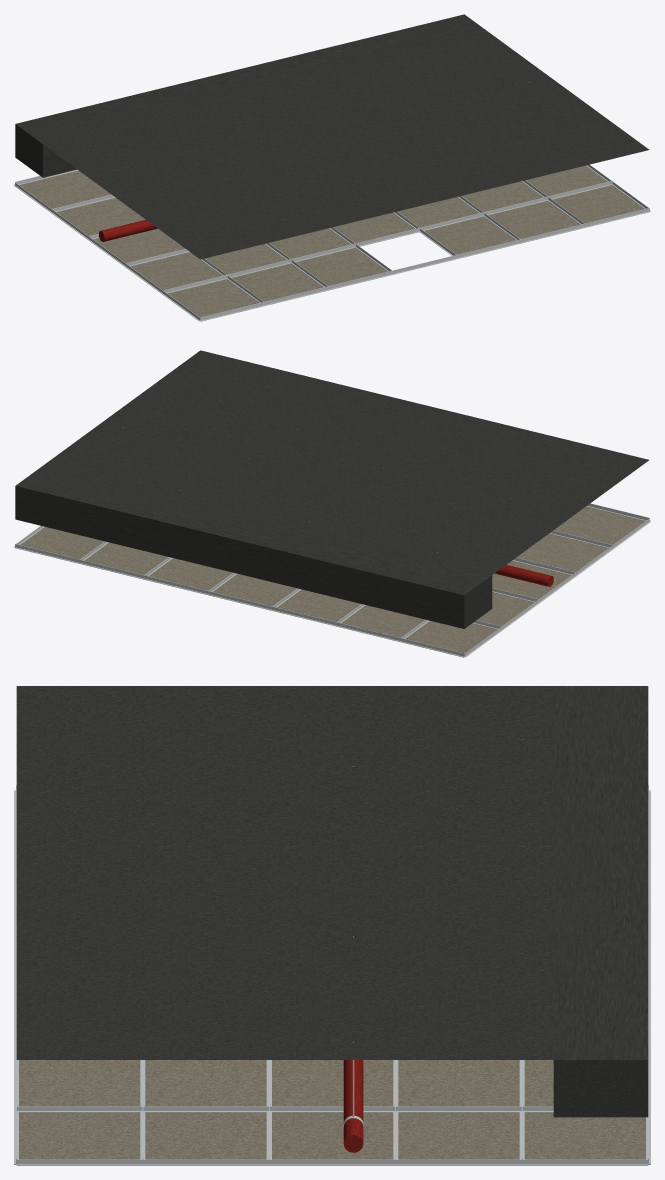
Rendered from plenum_empty.glb.
3 views of the same model, one above another, from view 1: azimuth 30°, elevation 25°; view 2: azimuth 150°, elevation 25°; view 3: azimuth 270°, elevation 25° (orthographic). The views are drawn at different scales.
Visible parts, largest first — view 1: plenum_empty; view 2: plenum_empty; view 3: plenum_empty.
Part boxes in pixels (x1,y1,x2,y2): plenum_empty: (14, 14, 650, 321); plenum_empty: (14, 350, 650, 657); plenum_empty: (14, 686, 650, 1165).
Size of the model in its own units: 4.22 by 0.5499 by 3.02.
Materials: 7 (4 with a texture image).
